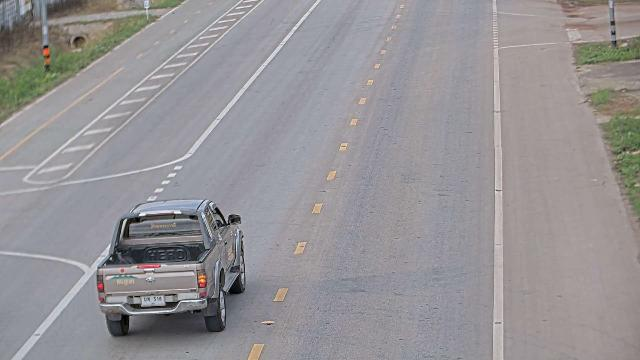pickup-truck: (95, 197, 247, 337)
